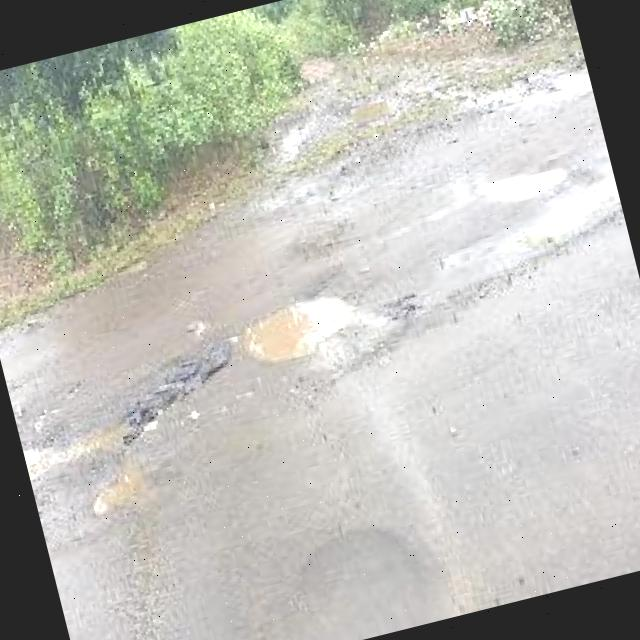stagnation: (241, 284, 366, 362)
